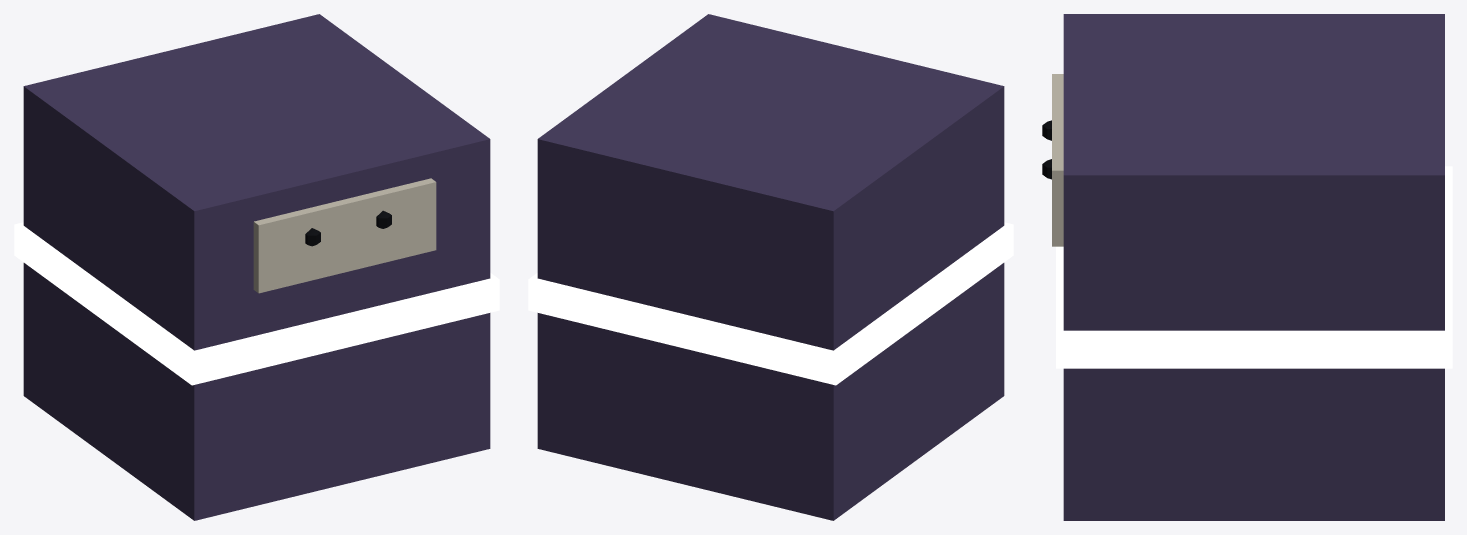
File: crate_product.glb
The picture shows the model from 3 angles, left to right: view 1: azimuth 30°, elevation 25°; view 2: azimuth 150°, elevation 25°; view 3: azimuth 270°, elevation 25°; orthographic projection. The views are drawn at different scales.
Parts seen in each view (by area): view 1: crate_product; view 2: crate_product; view 3: crate_product.
Part boxes in pixels (bbox=[...]): crate_product: bbox=[14, 14, 499, 520]; crate_product: bbox=[528, 14, 1013, 520]; crate_product: bbox=[1042, 14, 1452, 520].
Bounding box in the file's own units: 1.04 × 1 × 1.08.
